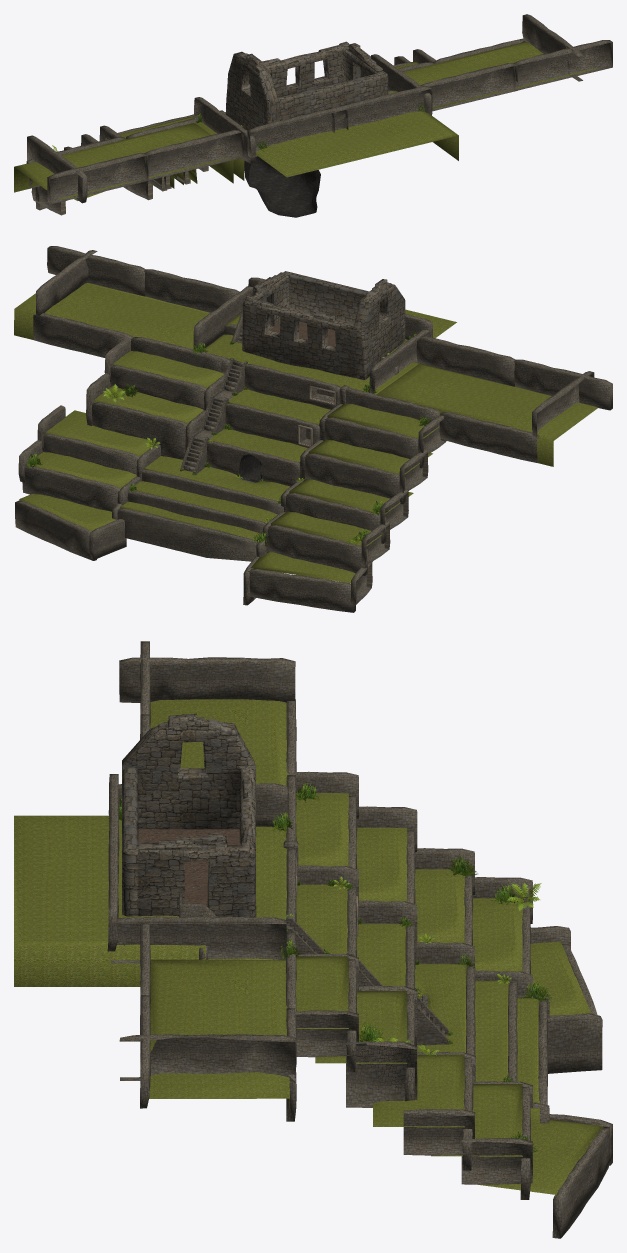
File: mdl_franch_cliffside.gltf
3 renders of one model, top to bottom at view 1: azimuth 30°, elevation 25°; view 2: azimuth 150°, elevation 25°; view 3: azimuth 270°, elevation 25°, orthographic. The views are drawn at different scales.
Parts seen in each view (by area): view 1: Temple_front, grass_terrace.019, grass_terrace.018, mine_13, stonefront_short.051, stonefront_short.053, stonefront_short.052, stonefront_short.054, grass_terrace.017, stonefront_short.012, stonefront_short.011, stonefront_short.057 (+9 smaller); view 2: Temple_front, grass_terrace.018, grass_terrace.017, stonefront_short.008, stonefront_short.023, stonefront_short.050, stonefront_short.051, stonefront_short.041, stonefront_short.033, stonefront_short.027, stonefront_short.047, stonefront_short.052 (+48 smaller); view 3: Temple_front, grass_terrace.019, grass_terrace.017, stonefront_short.057, stonefront_short.056, grass_terrace.018, stonefront_short.009, stonefront_short.042, grass_terrace.007, grass_terrace.014, grass_terrace.008, grass_terrace.016 (+37 smaller).
Boxes of the visible parts, left/top/right/bottom form: Temple_front: left=226, top=41, right=388, bottom=130; grass_terrace.019: left=246, top=90, right=458, bottom=177; grass_terrace.018: left=14, top=123, right=244, bottom=199; mine_13: left=244, top=156, right=320, bottom=217; stonefront_short.051: left=143, top=130, right=243, bottom=181; stonefront_short.053: left=512, top=40, right=612, bottom=90; stonefront_short.052: left=47, top=153, right=148, bottom=204; stonefront_short.054: left=420, top=63, right=517, bottom=111; grass_terrace.017: left=403, top=41, right=598, bottom=108; stonefront_short.012: left=247, top=106, right=348, bottom=157; stonefront_short.011: left=331, top=86, right=432, bottom=132; stonefront_short.057: left=27, top=135, right=87, bottom=203; Temple_front: left=242, top=271, right=405, bottom=380; grass_terrace.018: left=377, top=362, right=597, bottom=466; grass_terrace.017: left=14, top=283, right=210, bottom=348; stonefront_short.008: left=117, top=508, right=258, bottom=561; stonefront_short.023: left=248, top=569, right=355, bottom=612; stonefront_short.050: left=439, top=412, right=539, bottom=462; stonefront_short.051: left=416, top=336, right=515, bottom=386; stonefront_short.041: left=92, top=402, right=187, bottom=459; stonefront_short.033: left=267, top=525, right=367, bottom=575; stonefront_short.027: left=305, top=453, right=405, bottom=504; stonefront_short.047: left=22, top=466, right=120, bottom=511; stonefront_short.052: left=513, top=359, right=612, bottom=410; Temple_front: left=122, top=713, right=256, bottom=917; grass_terrace.019: left=14, top=815, right=205, bottom=986; grass_terrace.017: left=149, top=959, right=289, bottom=1108; stonefront_short.057: left=119, top=657, right=295, bottom=702; stonefront_short.056: left=119, top=1034, right=295, bottom=1081; grass_terrace.018: left=150, top=699, right=289, bottom=785; stonefront_short.009: left=110, top=916, right=286, bottom=963; stonefront_short.042: left=346, top=1041, right=417, bottom=1107; grass_terrace.007: left=296, top=793, right=348, bottom=866; grass_terrace.014: left=373, top=1054, right=464, bottom=1127; grass_terrace.008: left=356, top=827, right=407, bottom=901; grass_terrace.016: left=478, top=1120, right=603, bottom=1196.
Size of the model in its own units: 31.78 by 12.19 by 18.78.
Materials: 8 (8 with a texture image).
